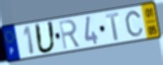1: (23, 25, 36, 57)
4: (84, 15, 99, 47)
C: (124, 10, 145, 38)
R: (58, 18, 82, 51)
T: (105, 11, 121, 42)
U: (33, 21, 57, 55)
